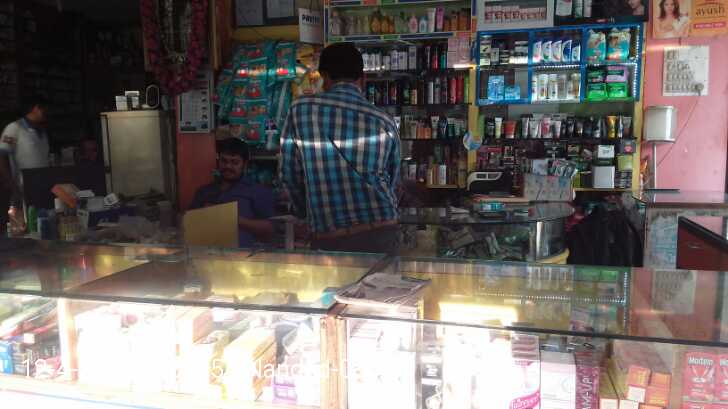venus: (488, 75, 506, 99), (506, 83, 520, 99)
